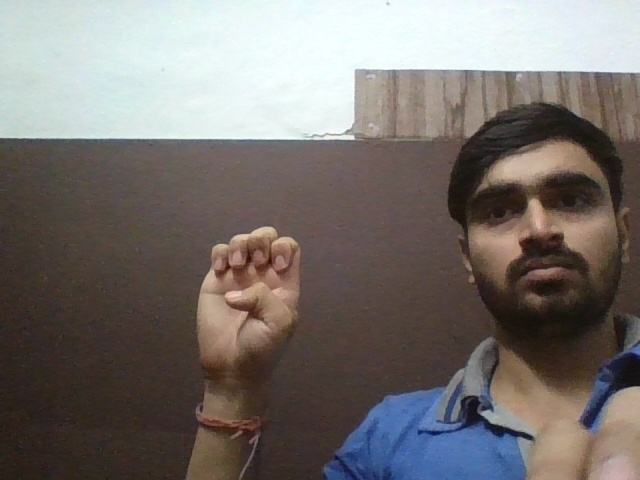E: (175, 219, 328, 380)
